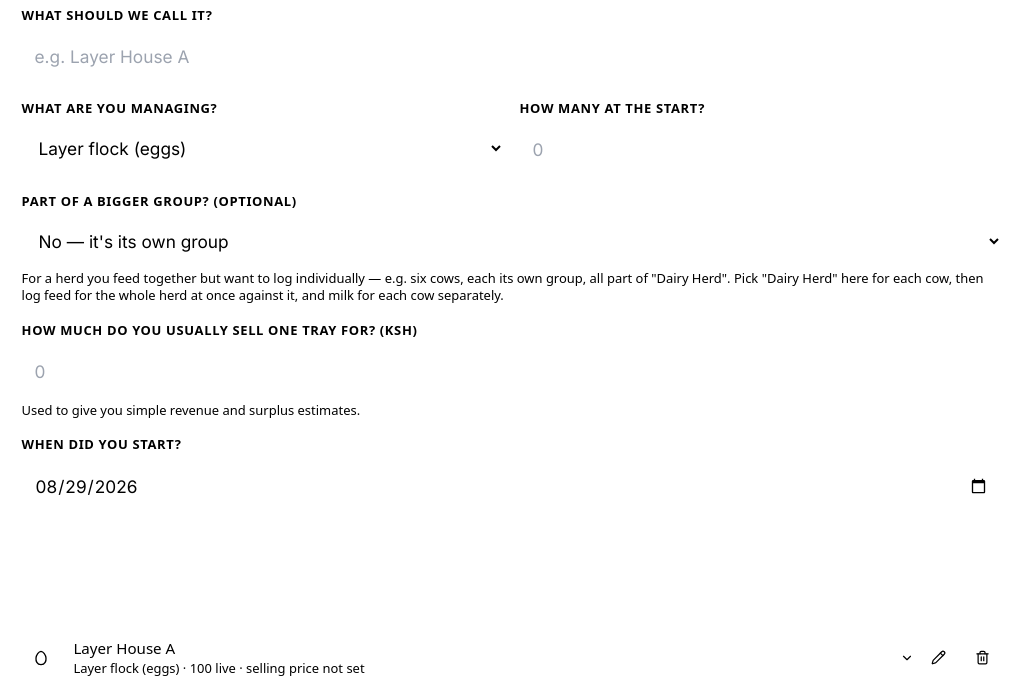
Scenario: UnitsView — expandable mini-analytics snapshot › clicking the unit row reveals produced/spent/cost-per-unit for this month
This screenshot has width=1024, height=693.
(page scrolled)
Click the text "Layer House A" at (124, 648), box left=73, top=638, right=175, bottom=658
(page scrolled)
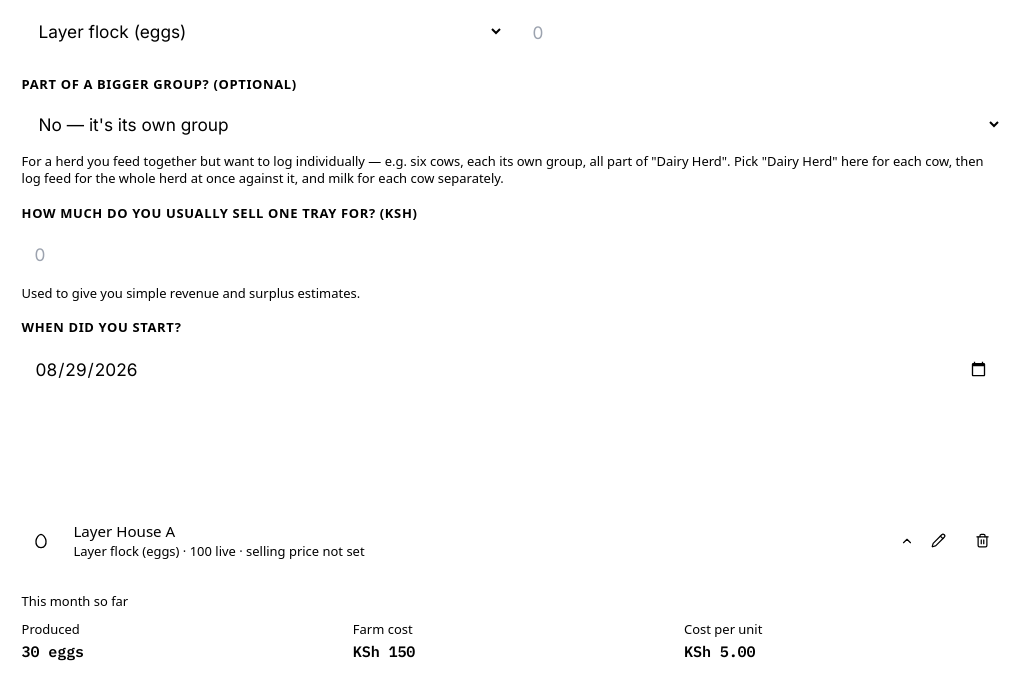
expect the text "This month so far" is shown: met, box left=22, top=592, right=128, bottom=610
expect the text "Cost per unit" is shown: met, box left=684, top=620, right=762, bottom=638
